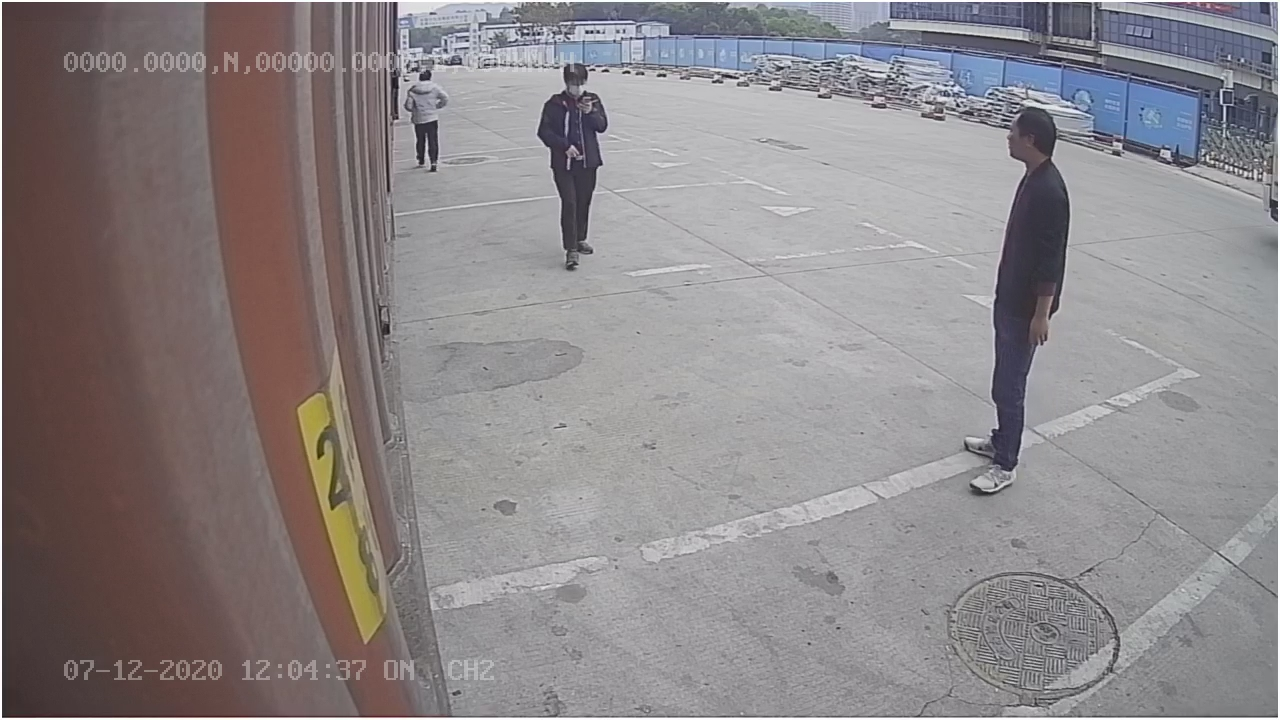person: (959, 102, 1082, 494)
